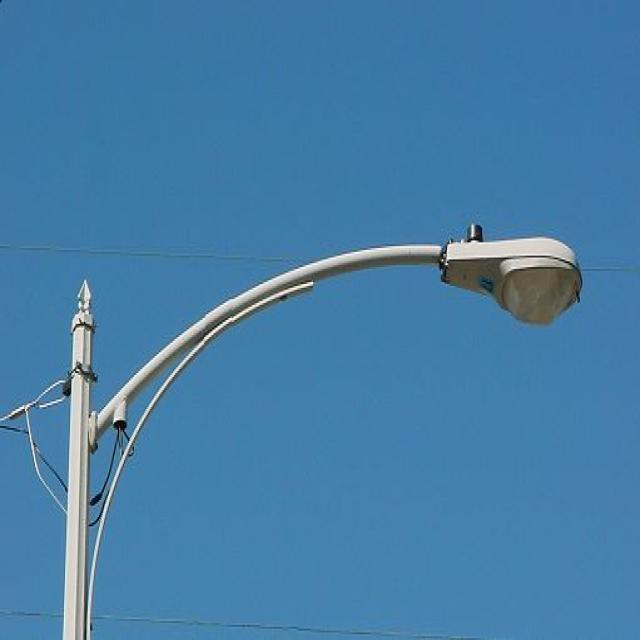Street Light: (59, 223, 584, 640)
